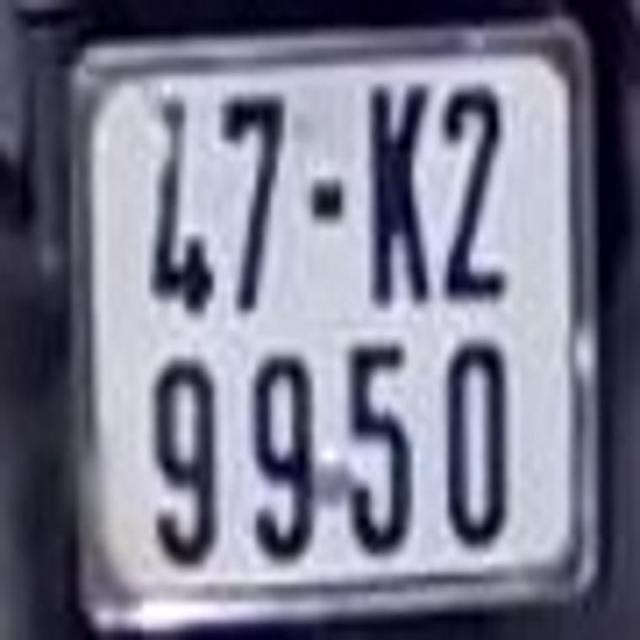0: (442, 346, 510, 540)
2: (442, 92, 504, 292)
4: (142, 96, 213, 306)
5: (344, 350, 414, 548)
7: (223, 98, 286, 309)
9: (152, 358, 218, 564), (255, 357, 313, 556)
K: (367, 84, 434, 298)
